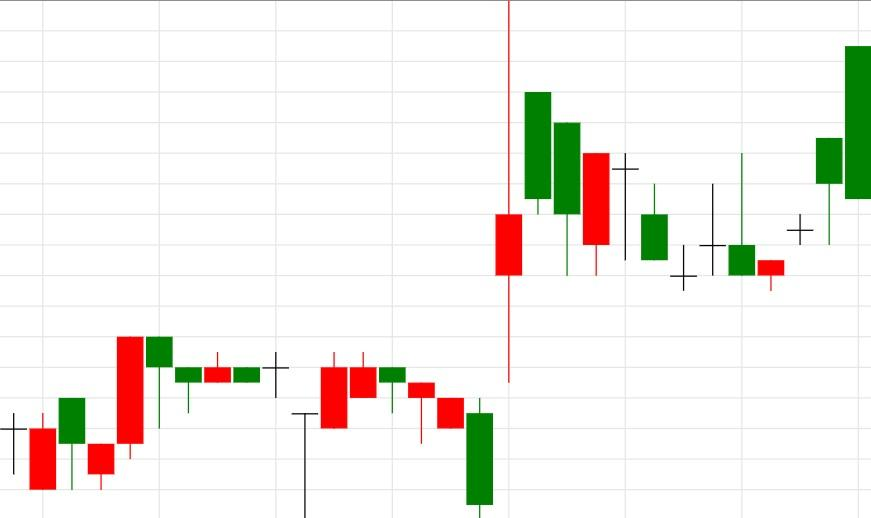hanging_man_fall: (88, 337, 173, 490)
